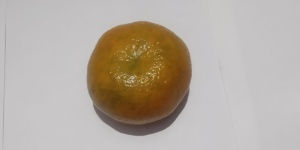BAD: (84, 16, 195, 133)
